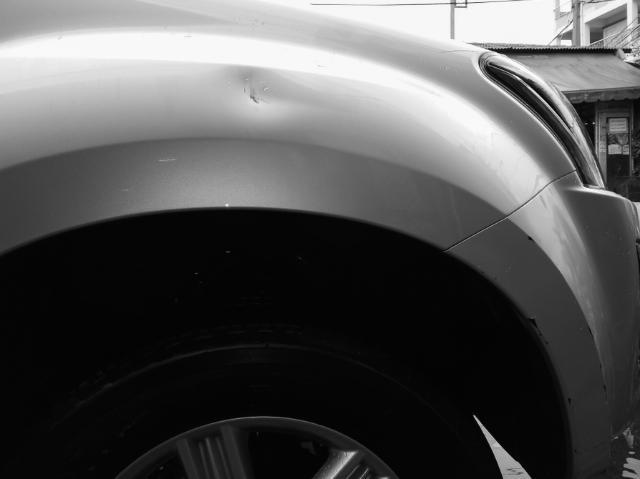Fender: (26, 34, 506, 248)
